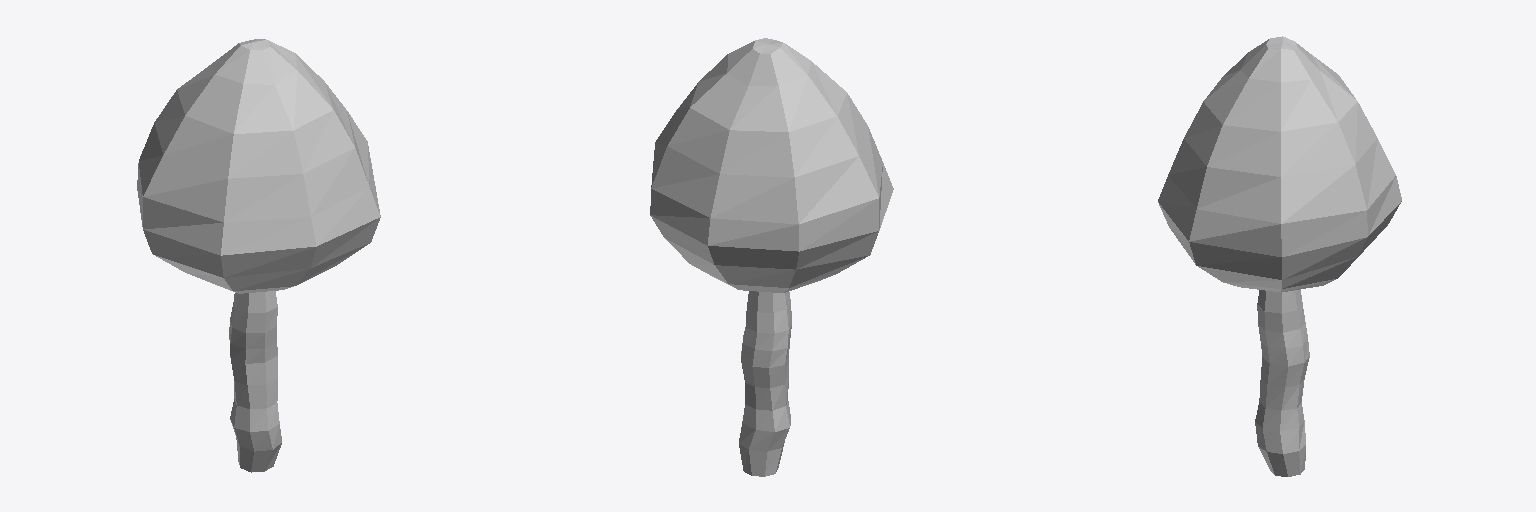
Rendered from Arbol1.obj.
3 views of the same model, side by side, from view 1: azimuth 30°, elevation 25°; view 2: azimuth 150°, elevation 25°; view 3: azimuth 270°, elevation 25° (orthographic).
Parts seen in each view (by area): view 1: Plane; view 2: Plane; view 3: Plane.
Part boxes in pixels (x1,y1,x2,y2): Plane: (137,39,380,472); Plane: (650,38,893,476); Plane: (1158,36,1401,476).
Size of the model in its own units: 21.93 by 39.77 by 20.7.